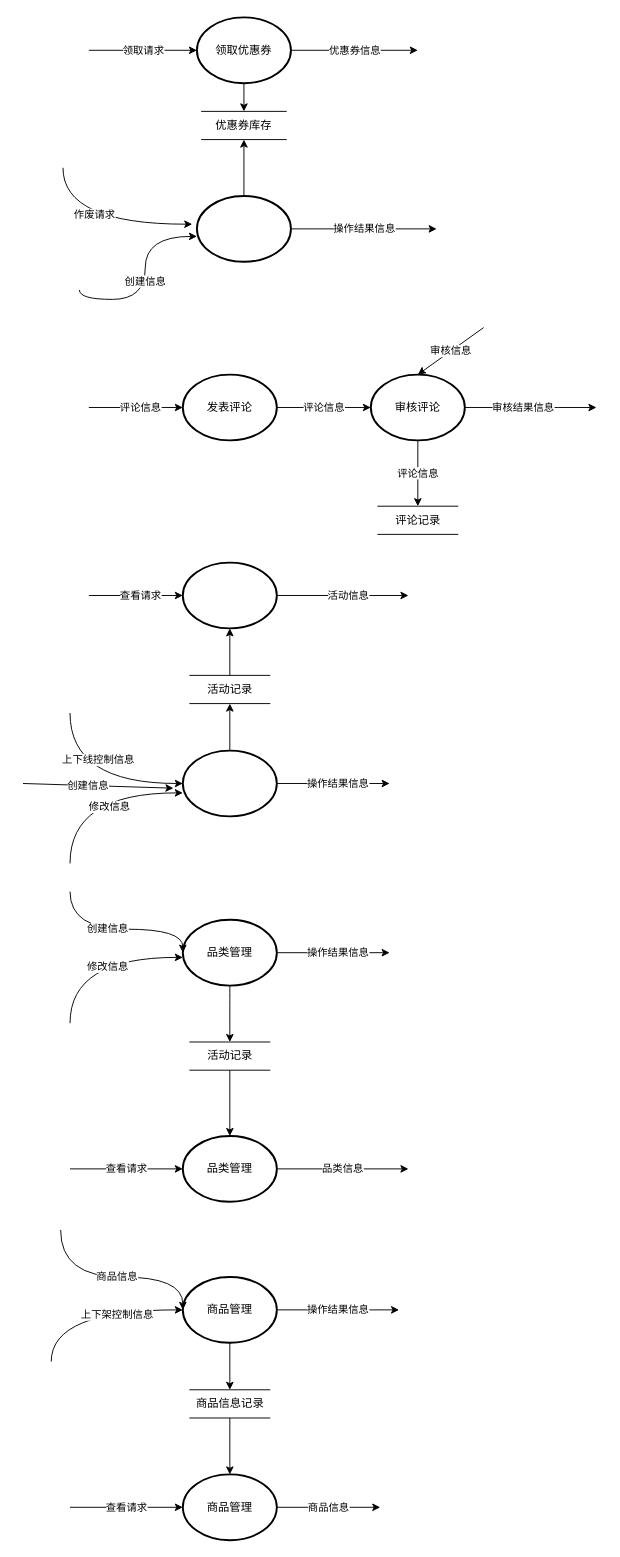
This 620x1557 diagram has some shape labels left out. The centre of each missing label's shape, as x and y in pixels:
"优惠券管理" goes at point (243, 228).
"查看活动" goes at point (229, 595).
"活动管理" goes at point (229, 783).
